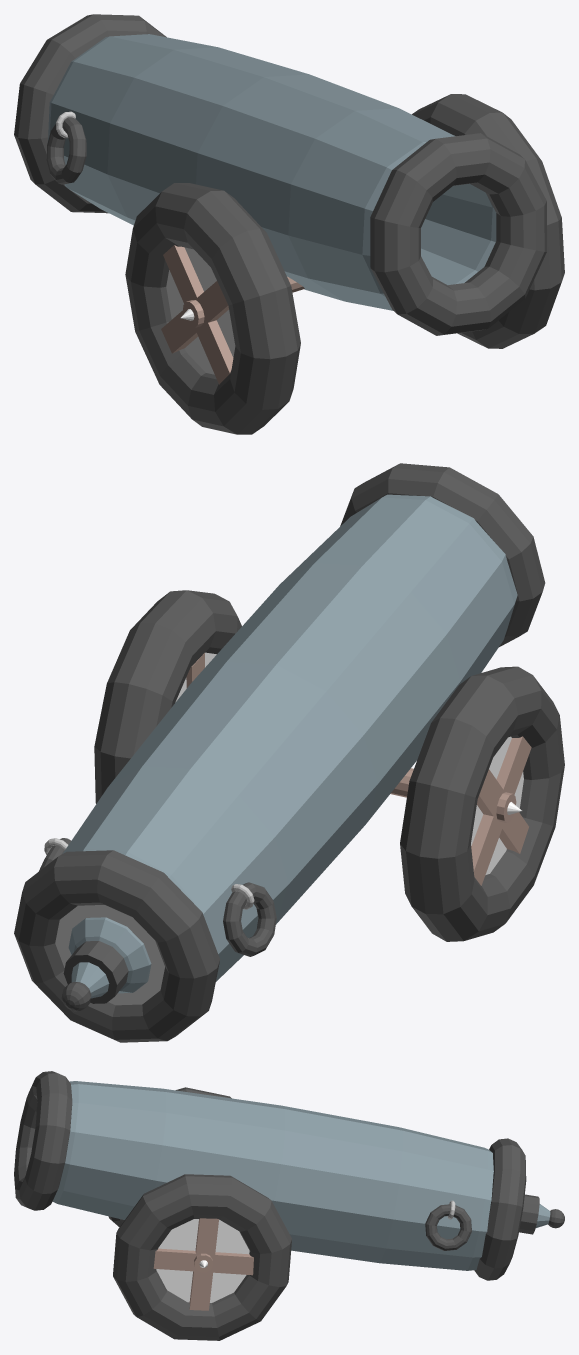
Rendered from CANNON.fbx.
The picture shows the model from 3 angles, top to bottom: view 1: azimuth 30°, elevation 25°; view 2: azimuth 150°, elevation 25°; view 3: azimuth 270°, elevation 25°; orthographic projection. The views are drawn at different scales.
Parts seen in each view (by area): view 1: mesh_567367277, mesh_1769612597, mesh_1916525985, mesh_1484648461, mesh_1025725996, mesh_1367972897, mesh_1397868754, mesh_495006279, mesh_1623987269; view 2: mesh_567367277, mesh_1769612597, mesh_1025725996, mesh_1484648461, mesh_1916525985, mesh_481917039, mesh_387056721, mesh_495006279, mesh_1623987269, mesh_790048783, mesh_1367972897, mesh_1397868754 (+1 smaller); view 3: mesh_567367277, mesh_1484648461, mesh_1916525985, mesh_1025725996, mesh_992478481, mesh_1966153578, mesh_1927299108, mesh_1121268527, mesh_790048783.
Part boxes in pixels (x1,y1,x2,y2): mesh_567367277: (47, 34, 496, 310); mesh_1769612597: (125, 183, 300, 434); mesh_1916525985: (370, 133, 546, 335); mesh_1484648461: (412, 94, 564, 348); mesh_1025725996: (14, 14, 166, 213); mesh_1367972897: (163, 245, 233, 384); mesh_1397868754: (166, 247, 235, 374); mesh_495006279: (46, 117, 86, 184); mesh_1623987269: (161, 281, 228, 353); mesh_567367277: (62, 494, 517, 981); mesh_1769612597: (400, 666, 564, 941); mesh_1025725996: (14, 850, 220, 1042); mesh_1484648461: (94, 590, 241, 803); mesh_1916525985: (340, 463, 545, 646); mesh_481917039: (55, 905, 164, 1005); mesh_387056721: (68, 917, 151, 993); mesh_495006279: (223, 882, 276, 956); mesh_1623987269: (471, 736, 531, 885); mesh_790048783: (63, 941, 128, 1003); mesh_1367972897: (477, 769, 528, 853); mesh_1397868754: (471, 736, 523, 874); mesh_567367277: (52, 1081, 493, 1270); mesh_1484648461: (113, 1174, 291, 1340); mesh_1916525985: (14, 1071, 72, 1210); mesh_1025725996: (474, 1138, 526, 1280); mesh_992478481: (156, 1219, 249, 1302); mesh_1966153578: (153, 1248, 253, 1275); mesh_1927299108: (189, 1218, 218, 1310); mesh_1121268527: (425, 1204, 471, 1250); mesh_790048783: (519, 1194, 539, 1234).
Size of the model in its own units: 28.73 by 25.97 by 57.16.
